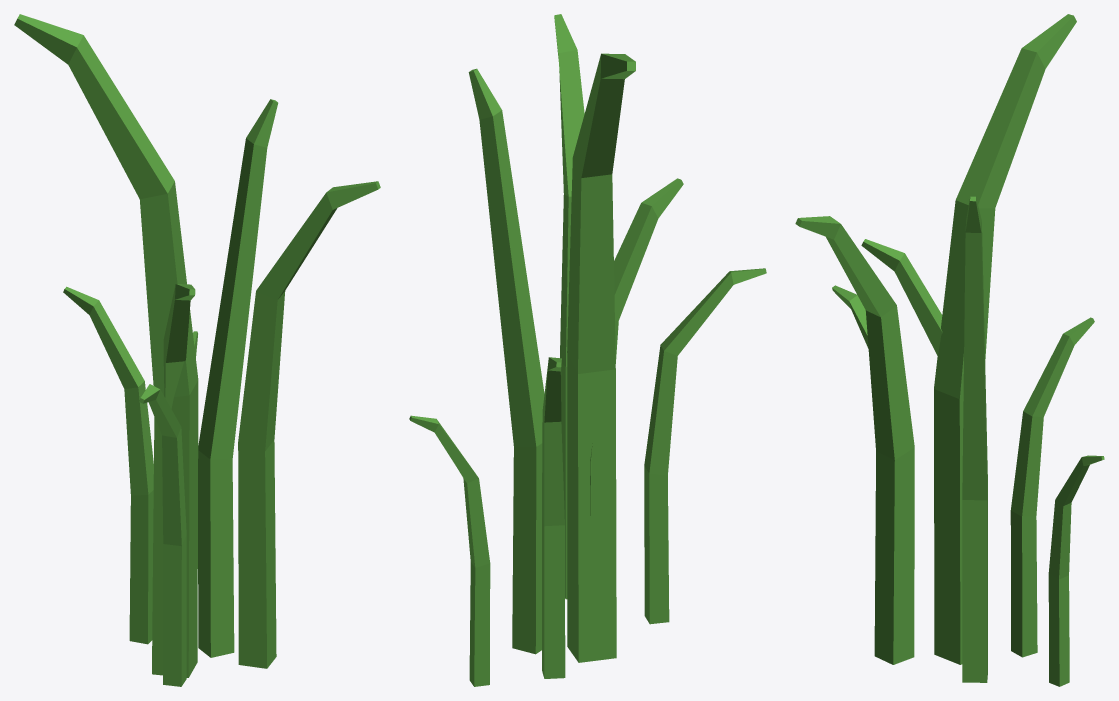
File: PondGrass03.fbx
3 views of the same model, side by side, from view 1: azimuth 30°, elevation 25°; view 2: azimuth 150°, elevation 25°; view 3: azimuth 270°, elevation 25° (orthographic). The views are drawn at different scales.
Visible parts, largest first — view 1: Cube.015, Cube.012, Cube.018, Cube.013, Cube.017, Cube.014; view 2: Cube.015, Cube.012, Cube.017, Cube.013, Cube.018, Cube.016, Cube.014; view 3: Cube.015, Cube.018, Cube.012, Cube.013, Cube.016, Cube.014, Cube.017.
Boxes of the visible parts, x1,y1,x2,y2 form: Cube.015: (14, 14, 198, 677); Cube.012: (198, 99, 278, 657); Cube.018: (238, 181, 380, 668); Cube.013: (63, 286, 153, 644); Cube.017: (139, 384, 186, 686); Cube.014: (163, 284, 195, 408); Cube.015: (567, 53, 635, 662); Cube.012: (468, 68, 544, 654); Cube.017: (644, 268, 766, 624); Cube.013: (542, 357, 565, 678); Cube.018: (554, 14, 584, 599); Cube.016: (409, 415, 490, 686); Cube.014: (590, 178, 683, 515); Cube.015: (934, 14, 1076, 664); Cube.018: (795, 216, 914, 664); Cube.012: (962, 196, 987, 682); Cube.013: (1010, 317, 1094, 657); Cube.016: (1048, 455, 1104, 686); Cube.014: (861, 239, 942, 356); Cube.017: (832, 285, 868, 348).
Bounding box in the file's own units: 90.13 × 246 × 115.
